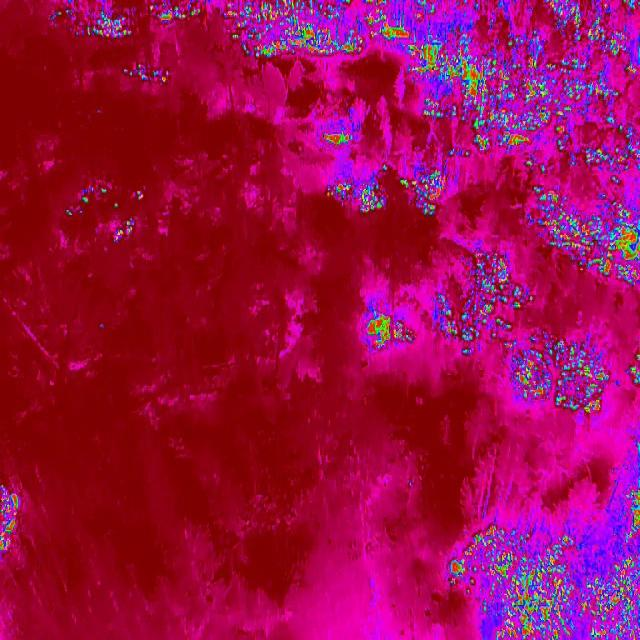fire: (224, 0, 640, 66), (448, 520, 640, 640), (406, 65, 640, 155), (432, 250, 538, 360), (526, 153, 640, 249), (508, 338, 607, 422), (62, 182, 142, 250), (54, 0, 142, 45), (351, 306, 418, 356), (317, 177, 392, 217), (567, 248, 640, 284), (399, 169, 444, 219), (317, 121, 362, 159), (124, 62, 176, 92), (0, 482, 20, 558), (149, 0, 203, 28), (625, 436, 640, 520), (624, 352, 640, 398)
